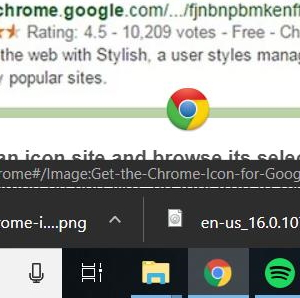chrome: (166, 86, 209, 131), (203, 258, 231, 286)
